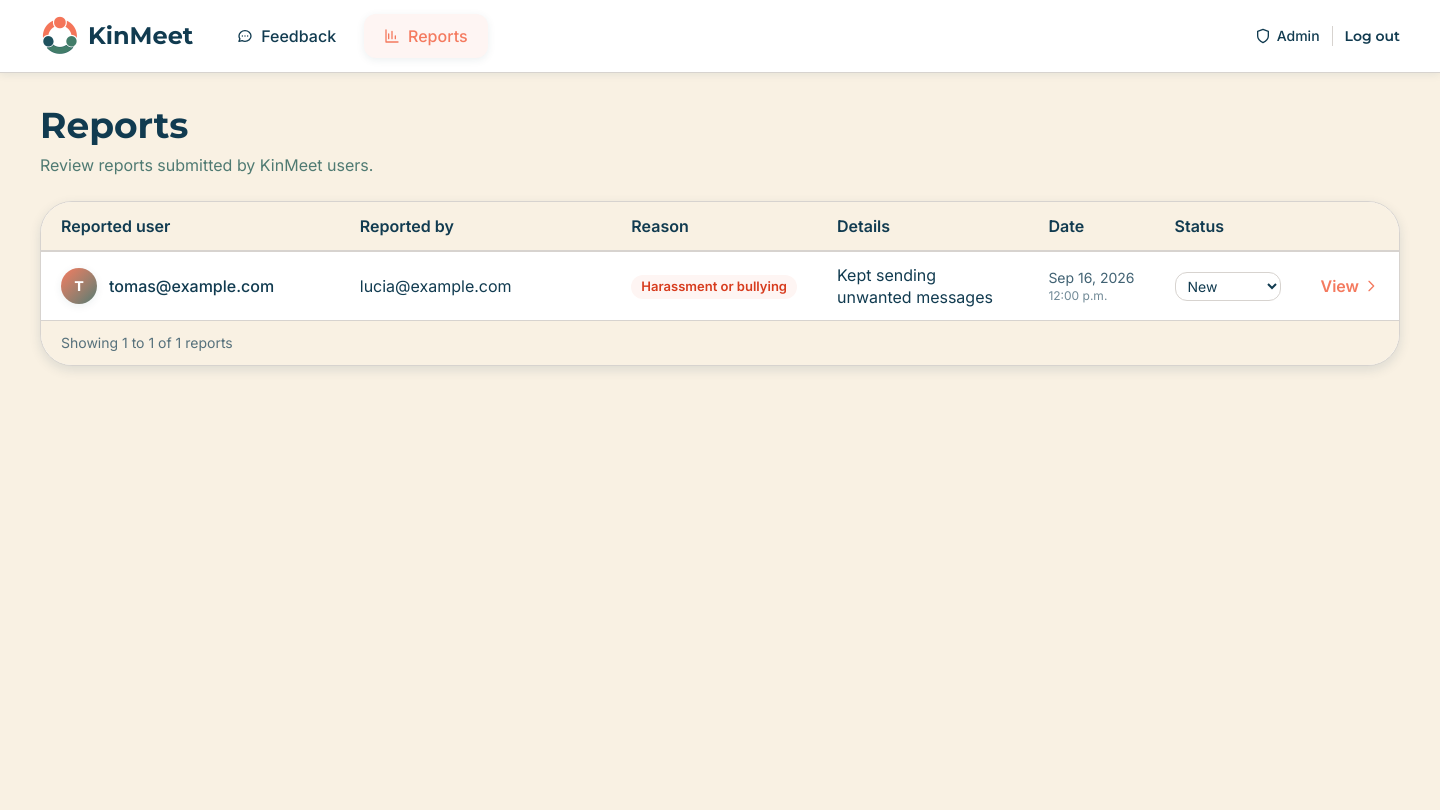
Test: AdminPage — reports › opens the details dialog and closes it again
Click the button with aria-label "view details" at (1350, 286), box 1312,266 -> 1387,306
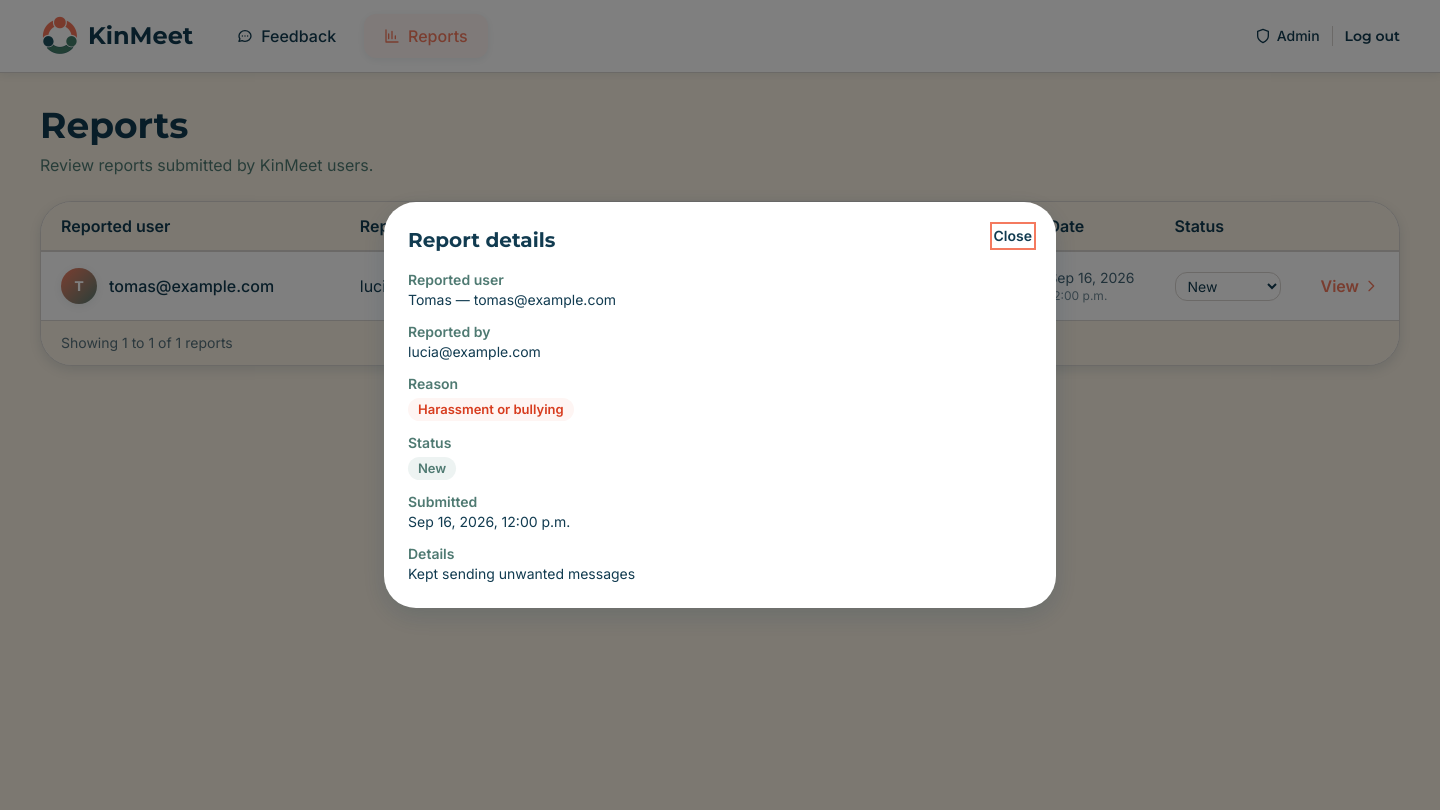
expect the heading "Report details" is shown: met, box 408,226 -> 555,254
expect the text "Tomas — tomas@example.com" is shown: met, box 408,291 -> 616,308
expect the text "lucia@example.com" is shown: met, box 408,343 -> 541,360
Click the button with aria-label "close details" at (1013, 236), box 994,226 -> 1032,246
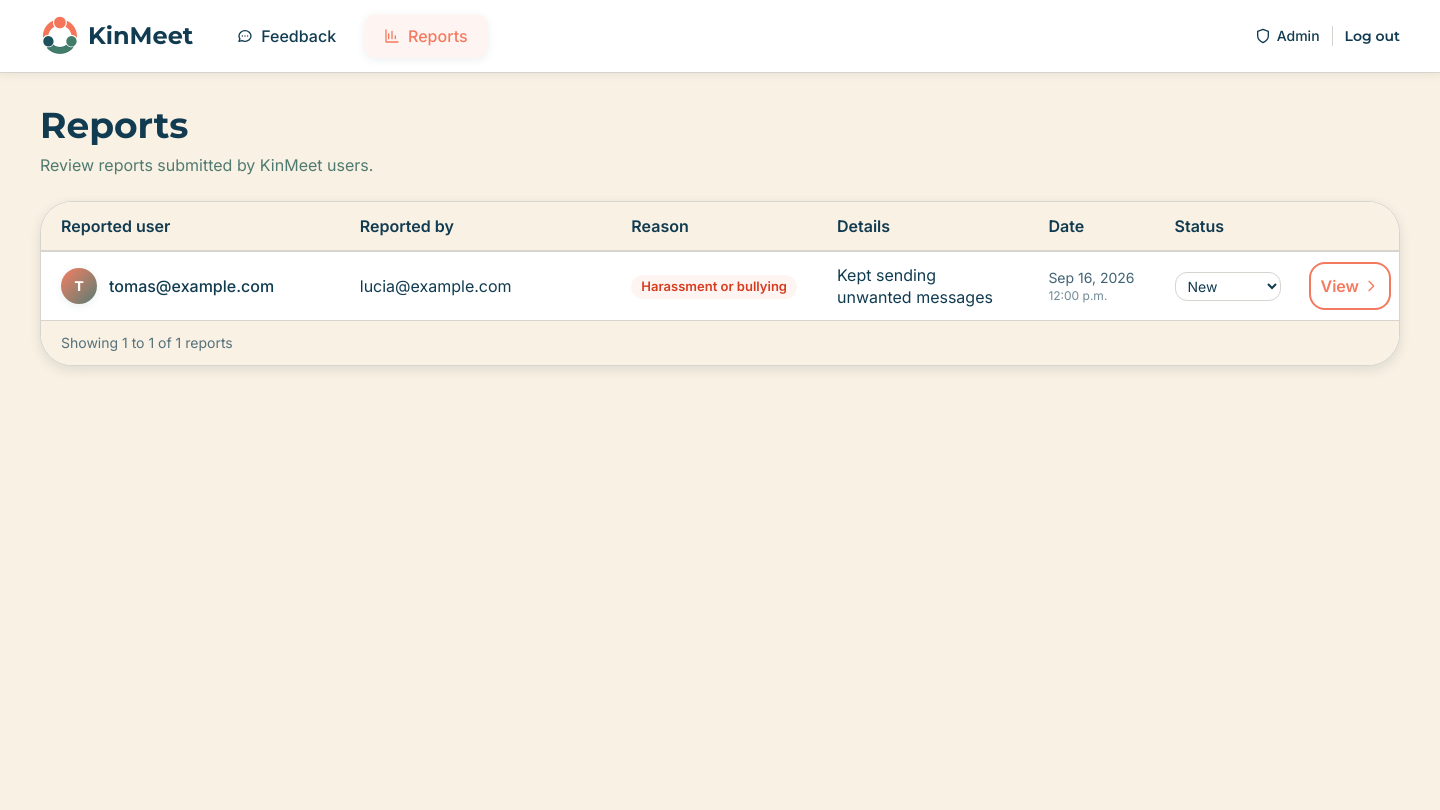
expect the dialog is gone: met
